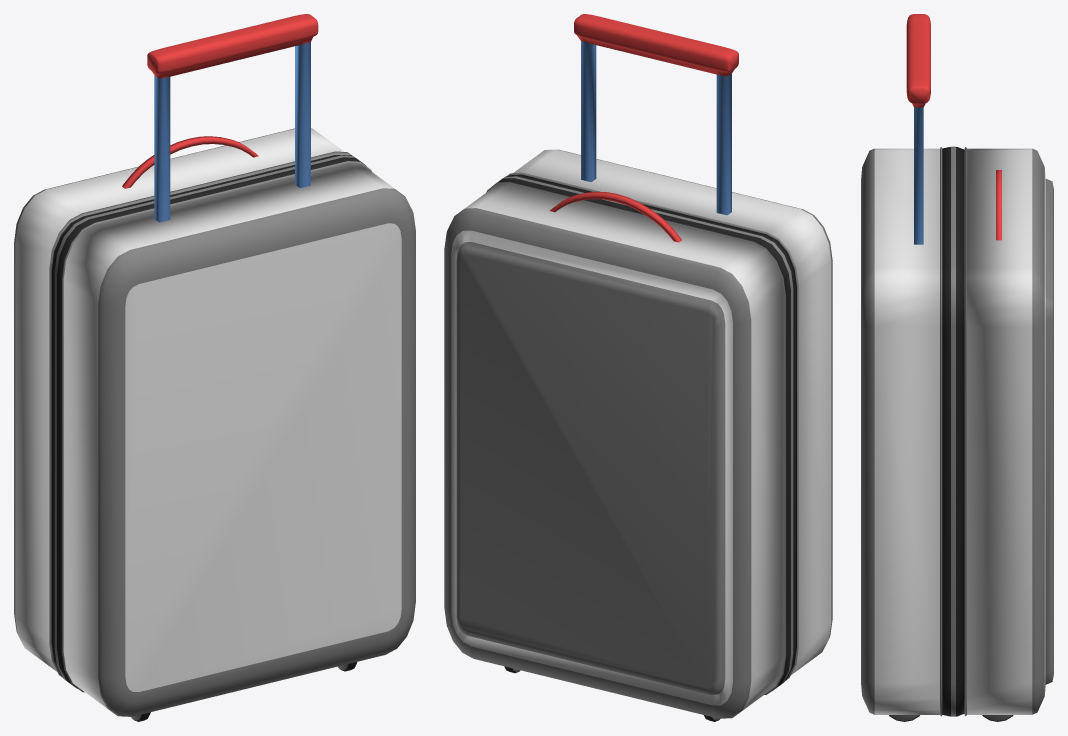
The model's file is Trolley-1.fbx.
3 renders of one model, left to right at view 1: azimuth 30°, elevation 25°; view 2: azimuth 150°, elevation 25°; view 3: azimuth 270°, elevation 25°, orthographic. The views are drawn at different scales.
Parts seen in each view (by area): view 1: Trolley-1; view 2: Trolley-1; view 3: Trolley-1.
Boxes of the visible parts, bbox=[...] form: Trolley-1: bbox=[14, 14, 415, 721]; Trolley-1: bbox=[444, 14, 832, 721]; Trolley-1: bbox=[861, 14, 1053, 721].
Bounding box in the file's own units: 6.14 × 12.06 × 3.38.
